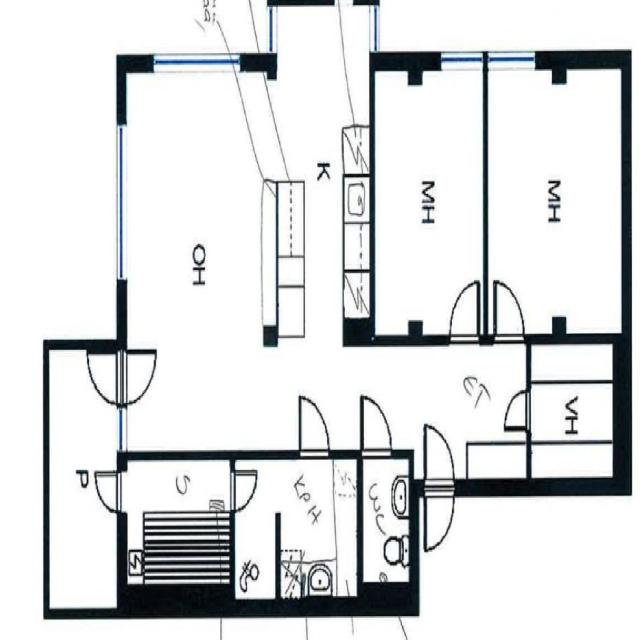door: (425, 426, 454, 496), (425, 478, 454, 548), (116, 351, 155, 402), (88, 351, 126, 402), (494, 282, 524, 346), (450, 284, 478, 345), (363, 401, 391, 459), (300, 402, 327, 459), (96, 473, 126, 510), (504, 390, 530, 429), (231, 473, 255, 509)
